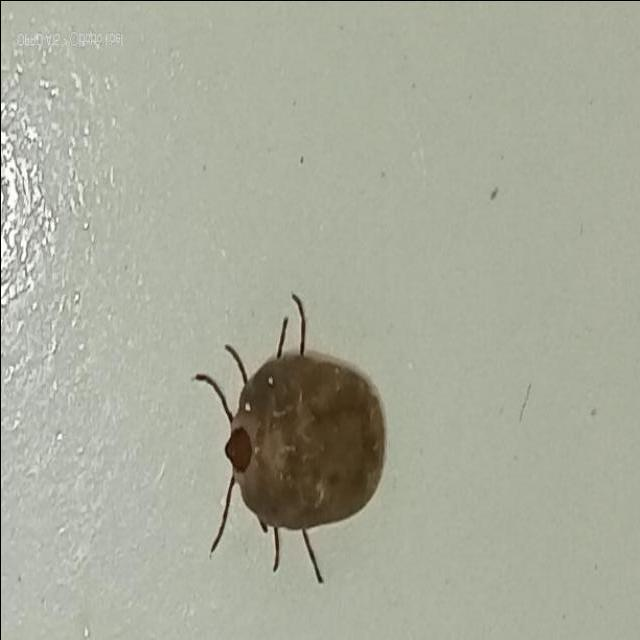Rhipicephalus Sanguineus-F-Fed: (193, 290, 387, 582)
